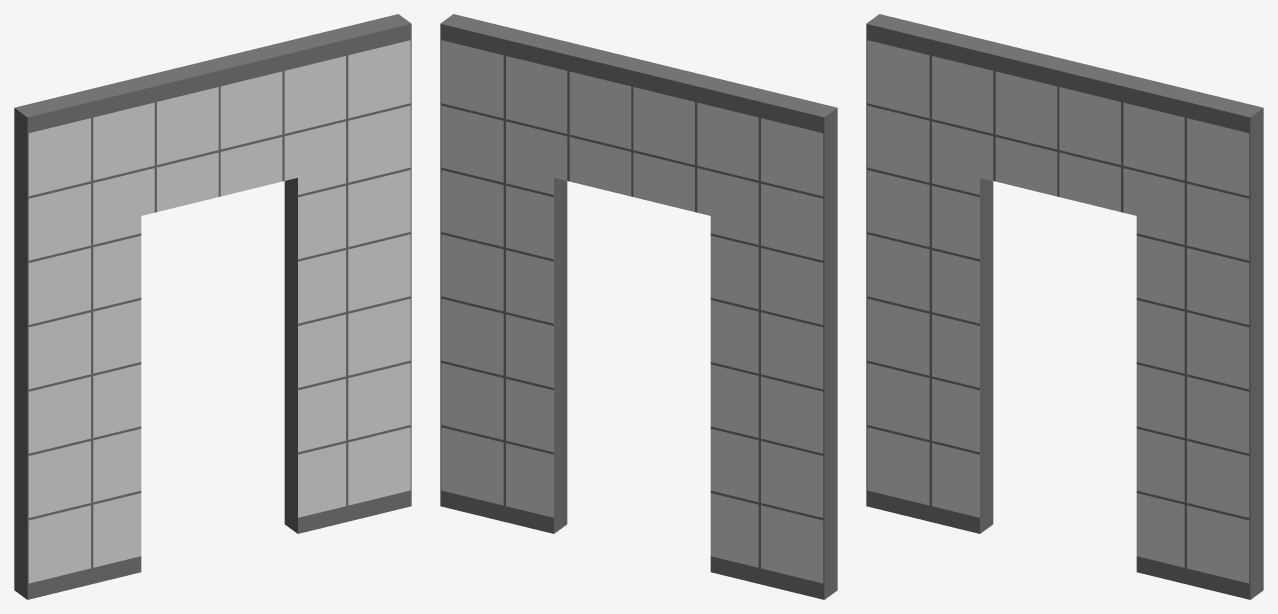
The model's file is Wall3_C7_17.fbx.
The picture shows the model from 3 angles, left to right: view 1: azimuth 30°, elevation 25°; view 2: azimuth 150°, elevation 25°; view 3: azimuth 330°, elevation 25°; orthographic projection.
Visible parts, largest first — view 1: Wall3_C7_17; view 2: Wall3_C7_17; view 3: Wall3_C7_17.
Part boxes in pixels (bbox=[...]): Wall3_C7_17: bbox=[14, 14, 411, 599]; Wall3_C7_17: bbox=[440, 14, 837, 599]; Wall3_C7_17: bbox=[866, 14, 1263, 599].
Bounding box in the file's own units: 250 × 300 × 15.
